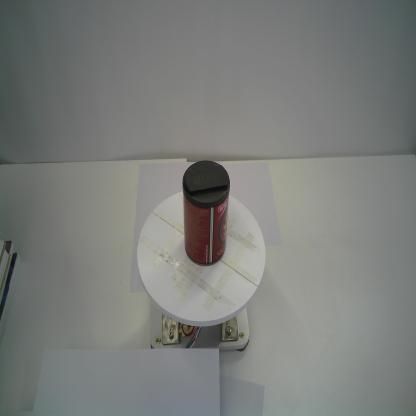Canned Food: (182, 157, 231, 270)
